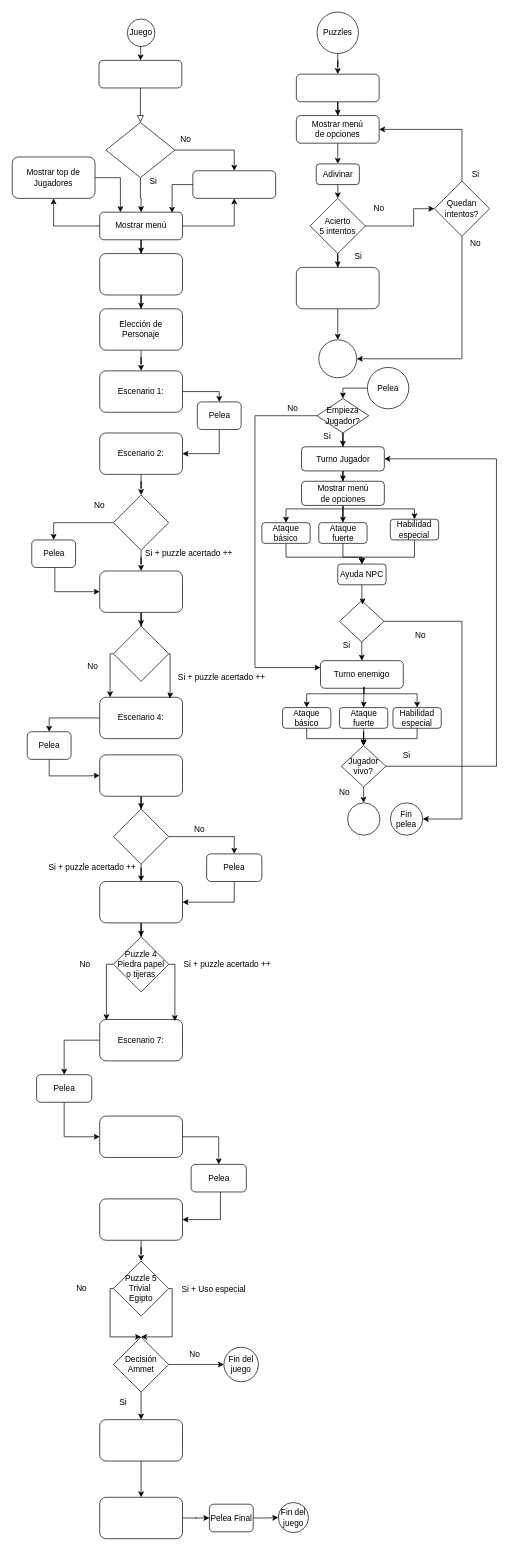
This 514x1551 diagram has some shape labels left out. Here are the shapes that lost their labels. From the top down, the centre of each, then its label:
At (x=140, y=74): "Lanzar juego".
At (x=337, y=87): "Puzzle".
At (x=140, y=150): "Existen Jugadores".
At (x=234, y=184): "Creación de nuevo Jugador".
At (x=141, y=274): "Elección de Jugadores".
At (x=337, y=288): "puzzle acertado ++".
At (x=337, y=358): "Siguiente escenario".
At (x=141, y=522): "Puzzle 1 Adivina el número".
At (x=141, y=591): "Escenario 3:".
At (x=361, y=621): "Enemigo vivo?".
At (x=141, y=653): "Puzzle 2 Acertijo Esfinge".
At (x=141, y=775): "Escenario 5: Sala oculta".
At (x=141, y=836): "Puzzle 3 Ahorcado".
At (x=363, y=818): "Fin Juego".
At (x=141, y=902): "Escenario 6: Zona de descanso".
At (x=141, y=1136): "Escenario 8:".
At (x=141, y=1219): "Escenario 9: Templo de Ammet".
At (x=141, y=1440): "Recuperación + Consigues Favor de Ammet".
At (x=141, y=1518): "Escenario 10:".
